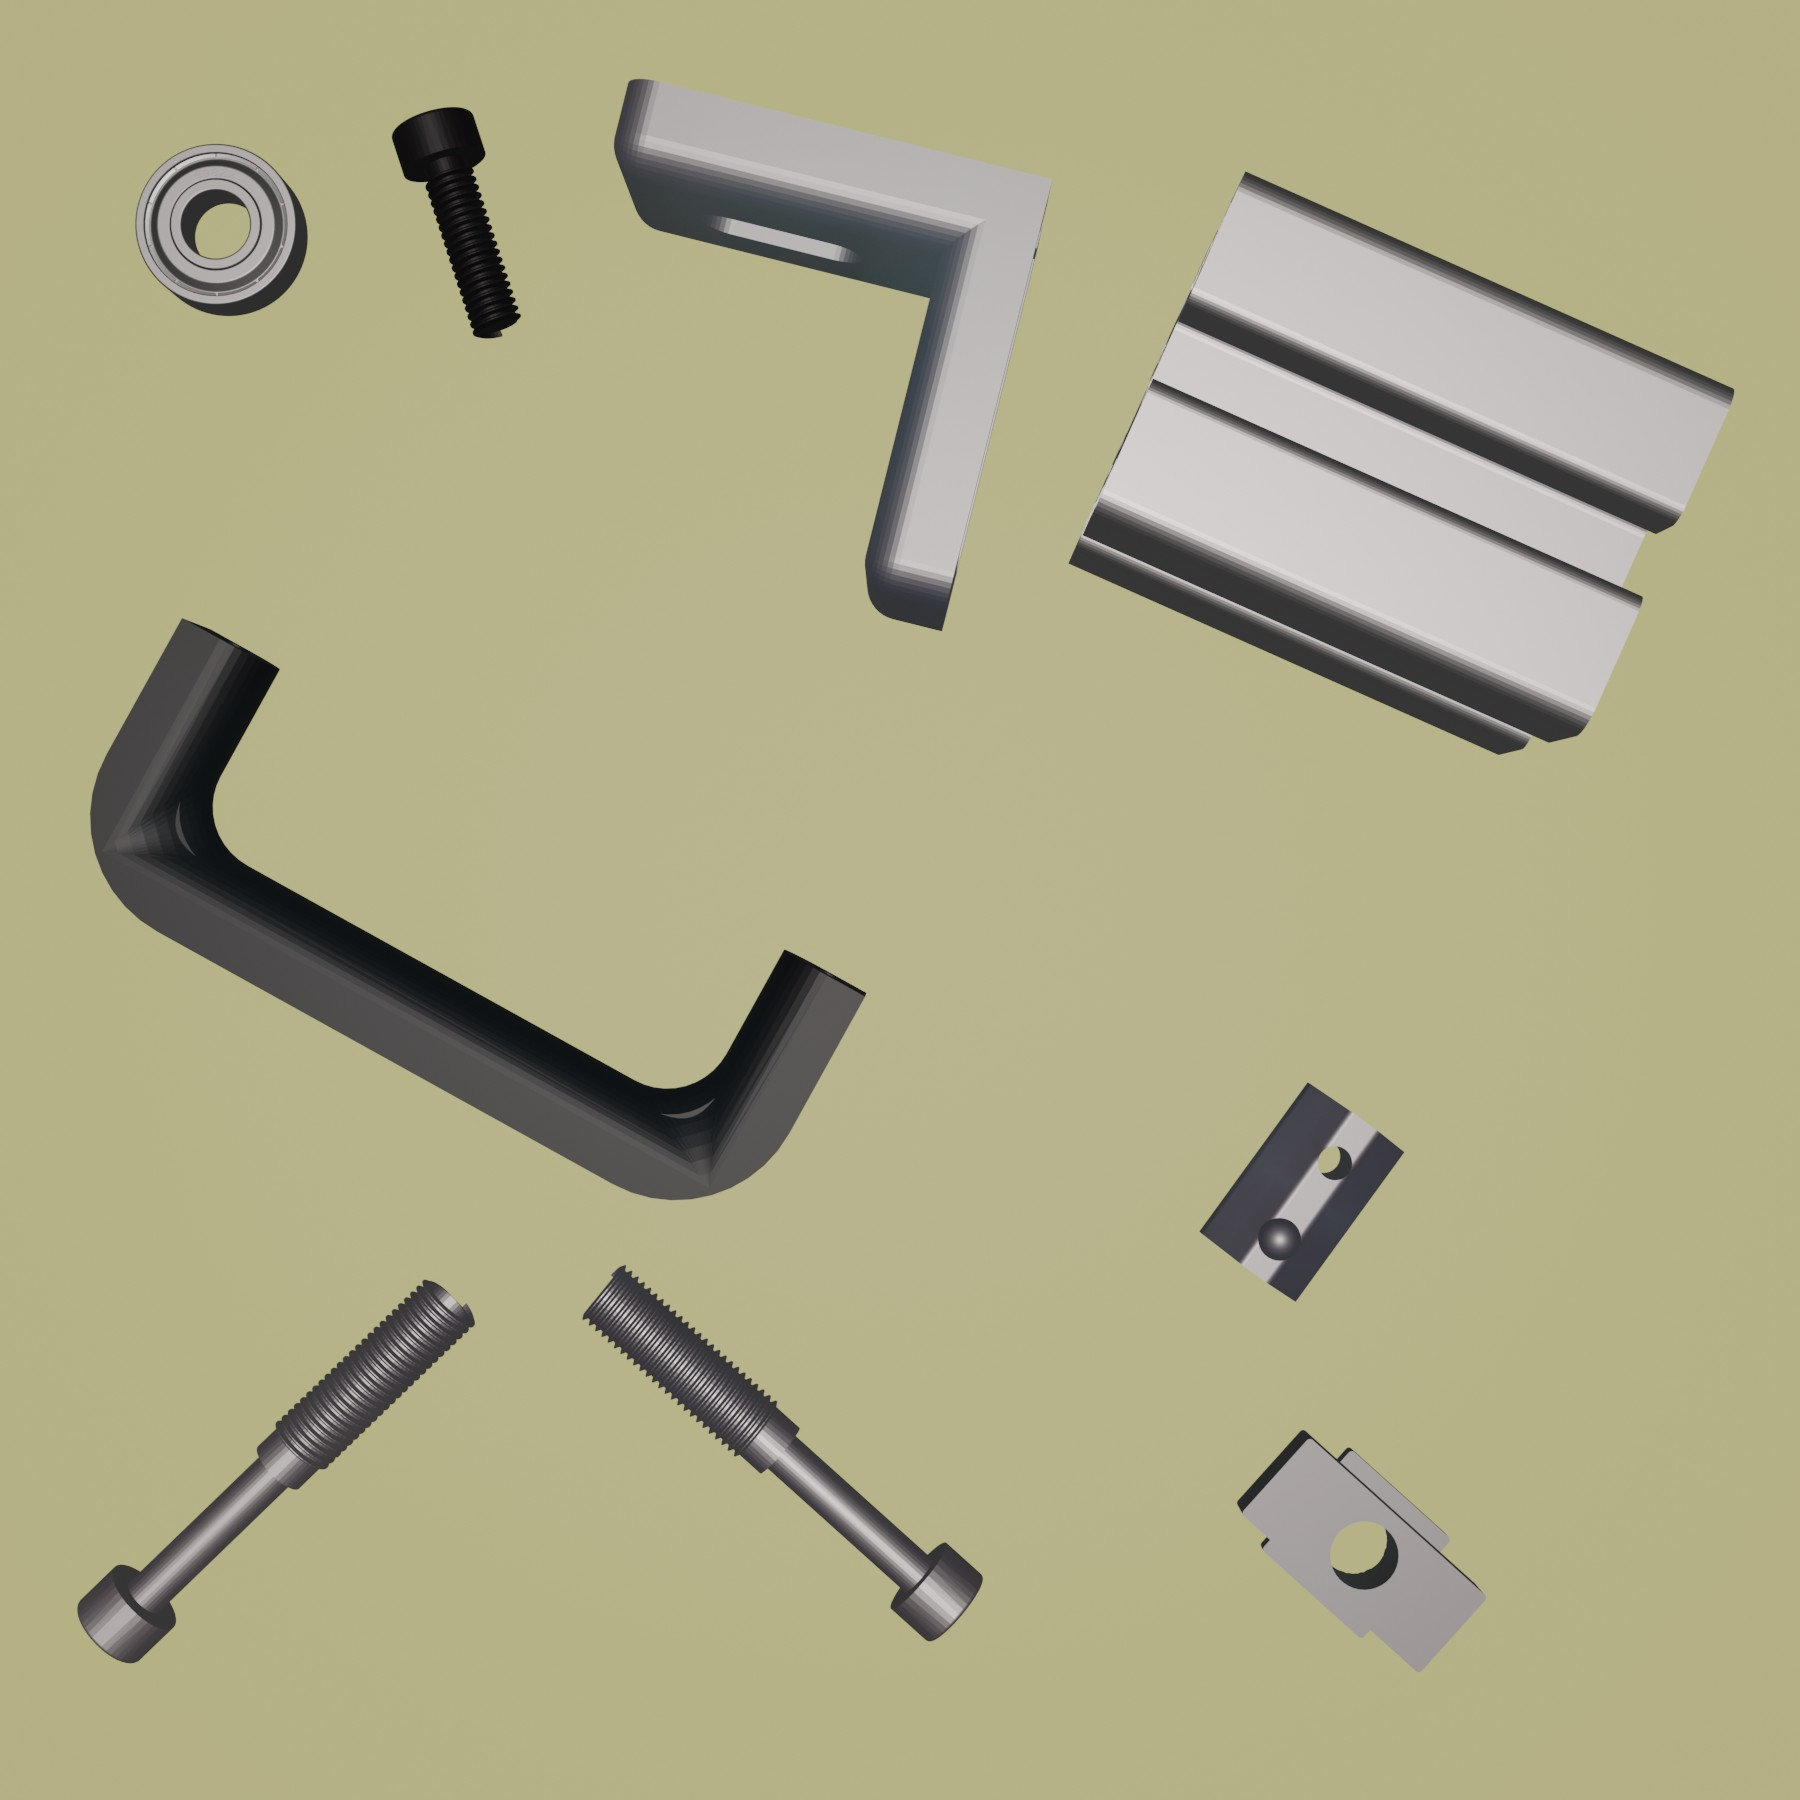Aluminium Extension: (1063, 170, 1736, 758)
Ball Bearing: (132, 143, 308, 320)
Multiwinkel: (613, 73, 1057, 636)
Pull Handle: (86, 612, 870, 1203)
Shoulder Socket Head Cap Screw: (73, 1276, 475, 1668), (577, 1264, 986, 1647)
Socket Head Cap Screw: (391, 102, 523, 346)
T Nut Square: (1233, 1427, 1490, 1676)
T Spring Nut: (1198, 1076, 1404, 1307)
